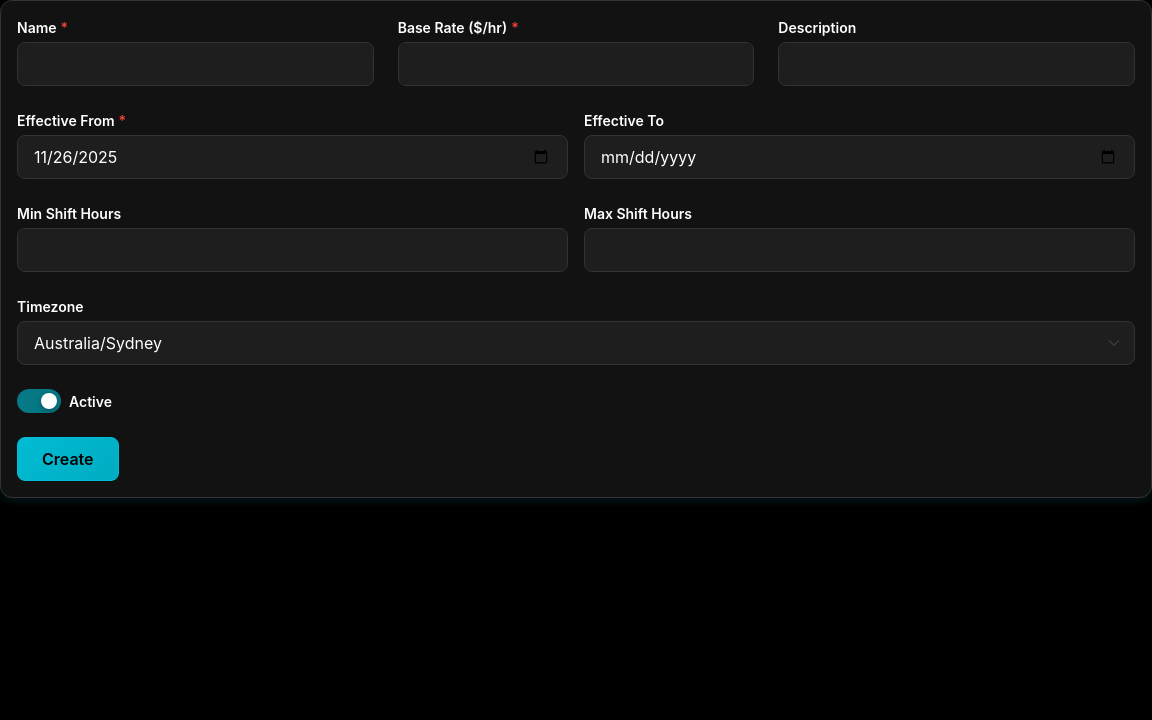
Test case: PayGuideForm › shows an error message when the save fails
In the field labelled "Name*": coordinates (195, 64) [17, 42, 374, 86], type "Broken Guide"
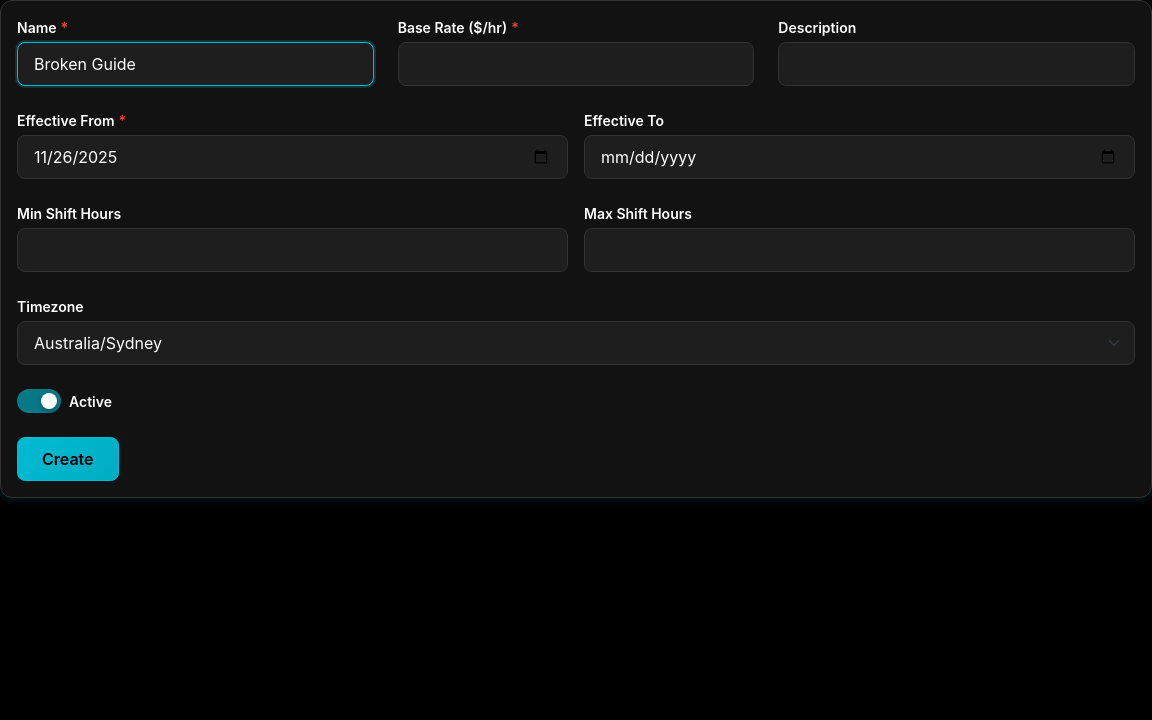
In the number field labelled "Base Rate ($/hr)*": coordinates (576, 64) [398, 42, 754, 86], type "28"
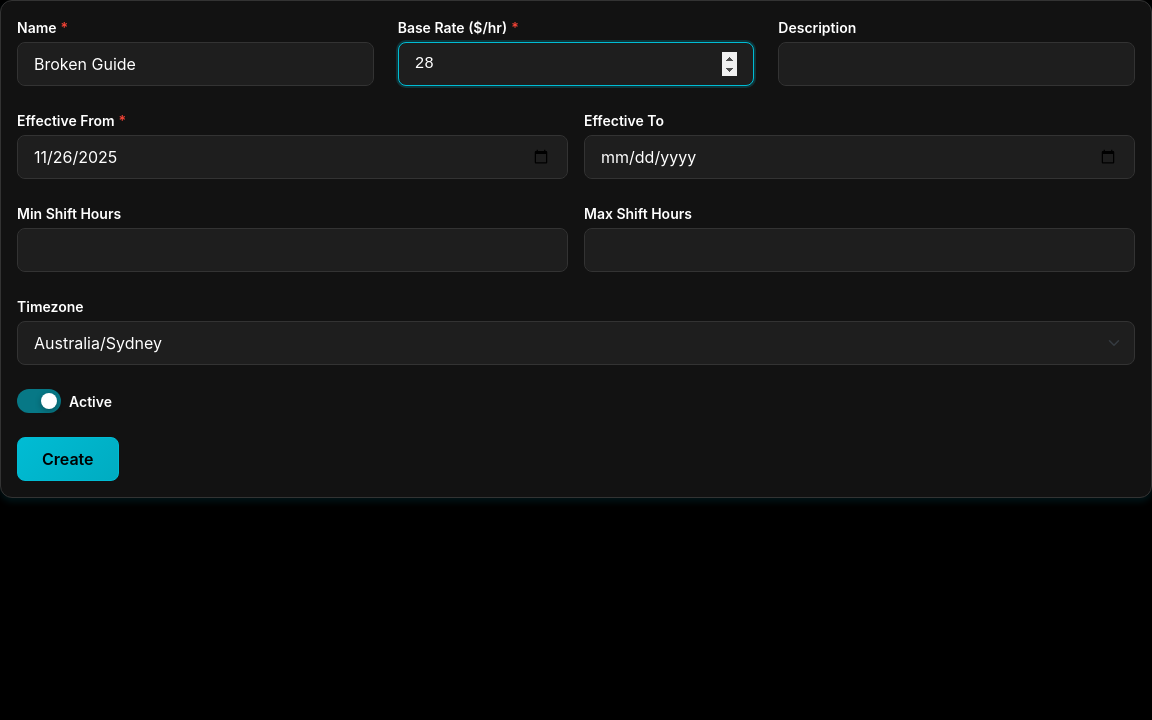
Click the button "Create": coordinates (68, 459) [17, 437, 118, 481]
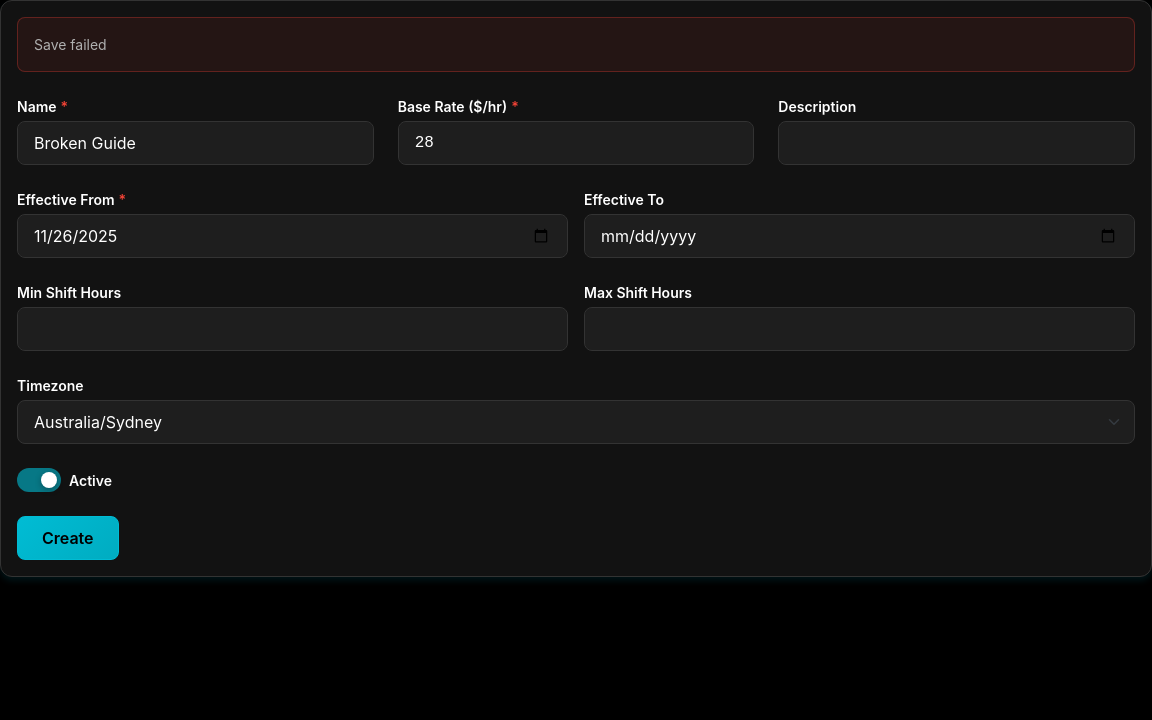
Check: the message reads "Save failed", box [34, 36, 107, 53]
